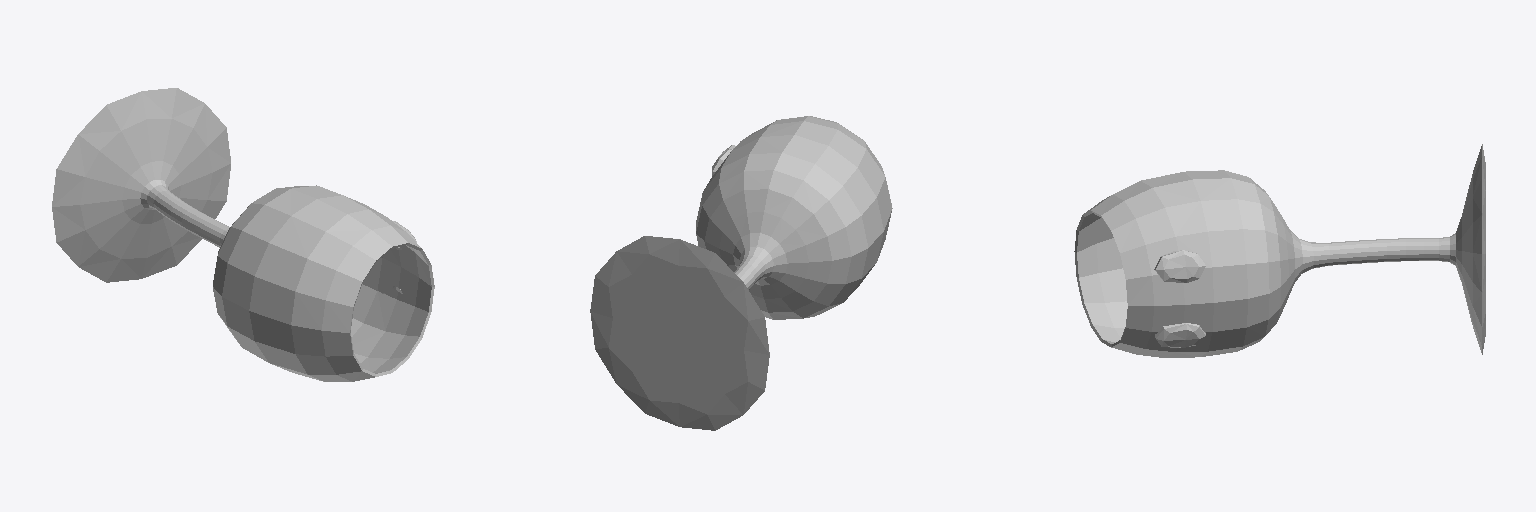
The model's file is animation_000003.obj.
The picture shows the model from 3 angles: view 1: azimuth 30°, elevation 25°; view 2: azimuth 150°, elevation 25°; view 3: azimuth 270°, elevation 25°; orthographic projection.
Size of the model in its own units: 2.37 by 2.06 by 4.09.